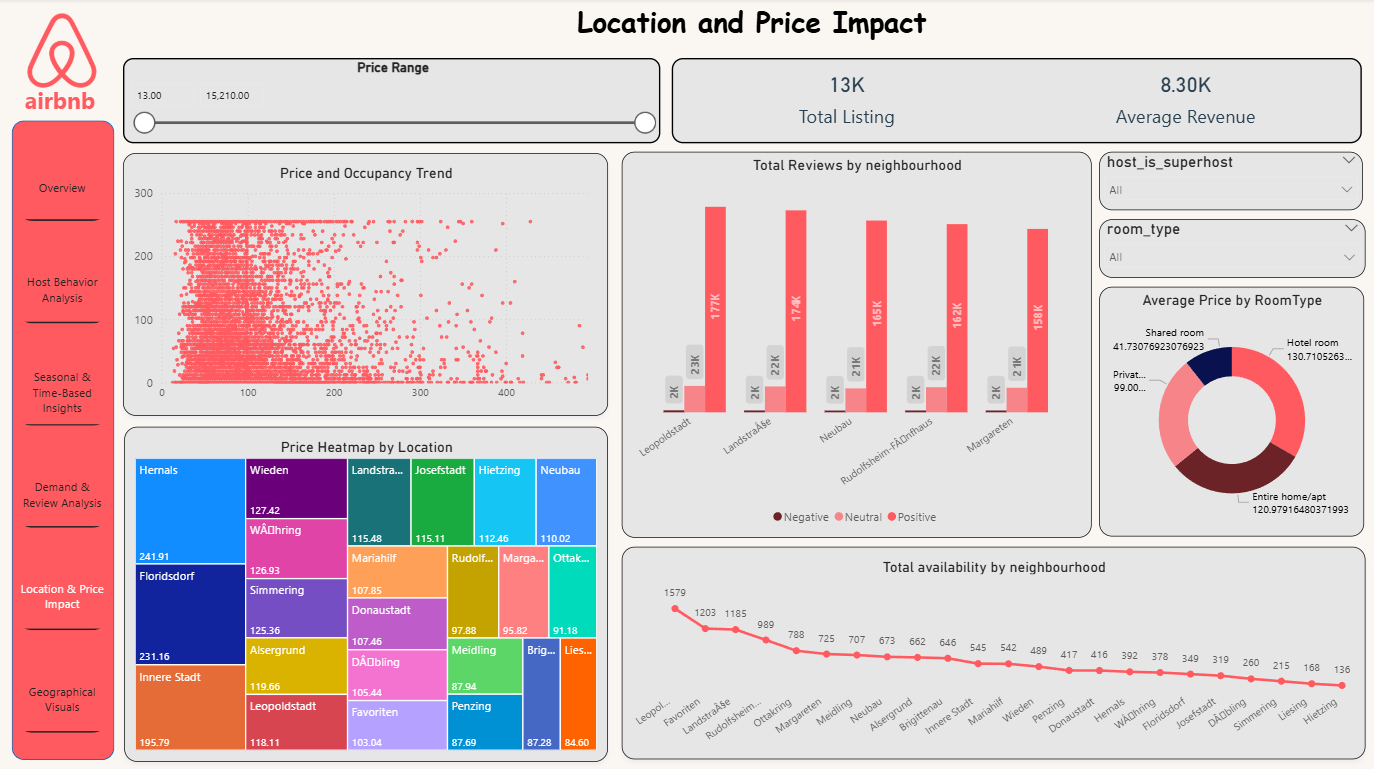

This screenshot's page, from the dashboard's own definition file:
{"tool":"powerbi","page":{"name":"Location & Price Impact","canvas":[1600,900],"ordinal":4},"visuals":[{"type":"card","title":"Average Price","fields":{"Values":["Avg(cleaned_Listings_data.price)"]},"box":[1092.1,418.3,164.7,64.4],"z":0},{"type":"lineChart","title":"Total availability by neighbourhood","fields":{"Y":["CountNonNull(cleaned_Listings_data.has_availability)"],"Category":["cleaned_Listings_data.neighbourhood_cleansed"]},"box":[725.3,638.1,864.8,247.1],"z":2000},{"type":"scatterChart","title":"Price and Occupancy Trend","fields":{"Y":["cleaned_Listings_data.estimated_occupancy_l365d"],"X":["cleaned_Listings_data.price"]},"box":[145.3,180.2,564,305.2],"z":3000},{"type":"slicer","fields":{"Values":["cleaned_Listings_data.room_type"]},"box":[1280.5,257.3,309.6,68.3],"z":4000},{"type":"donutChart","title":"Average Price by RoomType","fields":{"Category":["cleaned_Listings_data.room_type"],"Y":["Avg(cleaned_Listings_data.price)"]},"box":[1280.5,335.8,308.1,290.7],"z":5000},{"type":"treemap","title":"Price Heatmap by Location","fields":{"Values":["Avg(cleaned_Listings_data.price)"],"Group":["cleaned_Listings_data.neighbourhood_cleansed"]},"box":[146.8,498.5,562.5,389.5],"z":6000},{"type":"slicer","fields":{"Values":["cleaned_Listings_data.host_is_superhost"]},"box":[1280.5,178.8,306.7,68.3],"z":7000},{"type":"slicer","title":"Price Range","fields":{"Values":["cleaned_Listings_data.price"]},"box":[145.3,69.8,625,98.8],"z":8000},{"type":"clusteredColumnChart","title":"Total Reviews by neighbourhood","fields":{"Category":["cleaned_Listings_data.neighbourhood_cleansed"],"Y":["Measures (2).TOTAL REVIEW"],"Series":["cleaned_reviews_data.review_category"]},"box":[725.3,178.8,546.5,449.1],"z":9000},{"type":"shape","box":[16.3,142.2,119.3,743.7],"z":10000},{"type":"image","box":[8.2,13.1,130.8,96.4],"z":11000},{"type":"textbox","box":[5.7,96.5,132.5,45.4],"z":12000},{"type":"cardVisual","fields":{"Data":["Measures (2).Total Listing","Avg(cleaned_Listings_data.estimated_revenue_l365d)"]},"box":[783.4,69.8,802.3,98.8],"z":13000},{"type":"textbox","box":[168.5,0,1415.8,96.5],"z":14000},{"type":"pageNavigator","box":[20.8,179.8,109.8,679.5],"z":15000}]}

Visuals, with their boxes on the page's 1600x900 design canvas (x1, y1, x2, y2). These are canvas units, not pixel positions in the 1374x769 screenshot, which may show the page scaled, cropped or inside an application window:
"Average Price" card: <bbox>1092, 418, 1257, 483</bbox>
"Total availability by neighbourhood" lineChart: <bbox>725, 638, 1590, 885</bbox>
"Price and Occupancy Trend" scatterChart: <bbox>145, 180, 709, 485</bbox>
slicer - cleaned_Listings_data.room_type: <bbox>1280, 257, 1590, 326</bbox>
"Average Price by RoomType" donutChart: <bbox>1280, 336, 1589, 626</bbox>
"Price Heatmap by Location" treemap: <bbox>147, 498, 709, 888</bbox>
slicer - cleaned_Listings_data.host_is_superhost: <bbox>1280, 179, 1587, 247</bbox>
"Price Range" slicer: <bbox>145, 70, 770, 169</bbox>
"Total Reviews by neighbourhood" clusteredColumnChart: <bbox>725, 179, 1272, 628</bbox>
shape: <bbox>16, 142, 136, 886</bbox>
image: <bbox>8, 13, 139, 110</bbox>
textbox: <bbox>6, 96, 138, 142</bbox>
cardVisual - Measures (2).Total Listing x Avg(cleaned_Listings_data.estimated_revenue_l365d): <bbox>783, 70, 1586, 169</bbox>
textbox: <bbox>168, 0, 1584, 96</bbox>
pageNavigator: <bbox>21, 180, 131, 859</bbox>
